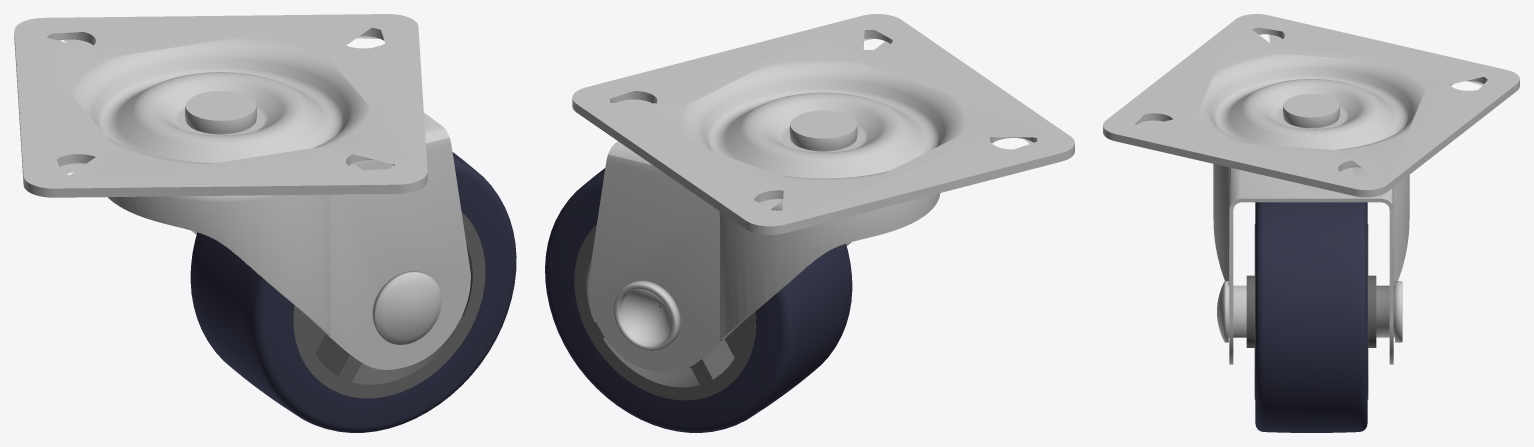
File: wheel-2.obj
3 renders of one model, left to right at view 1: azimuth 30°, elevation 25°; view 2: azimuth 150°, elevation 25°; view 3: azimuth 270°, elevation 25°, orthographic. The views are drawn at different scales.
Parts seen in each view (by area): view 1: Plane.003, Cylinder.008, Cylinder.009, Cylinder.010; view 2: Plane.003, Cylinder.008, Cylinder.009, Cylinder.010; view 3: Plane.003, Cylinder.009, Cylinder.008, Cylinder.010.
Part boxes in pixels (x1=…): Plane.003: x1=14, y1=14, x2=427, y2=197; Cylinder.008: x1=107, y1=113, x2=470, y2=369; Cylinder.009: x1=190, y1=152, x2=516, y2=432; Cylinder.010: x1=372, y1=271, x2=441, y2=344; Plane.003: x1=572, y1=14, x2=1074, y2=234; Cylinder.008: x1=588, y1=141, x2=940, y2=373; Cylinder.009: x1=545, y1=168, x2=852, y2=432; Cylinder.010: x1=613, y1=280, x2=680, y2=351; Plane.003: x1=1103, y1=14, x2=1519, y2=197; Cylinder.009: x1=1246, y1=202, x2=1376, y2=432; Cylinder.008: x1=1213, y1=164, x2=1409, y2=364; Cylinder.010: x1=1217, y1=281, x2=1402, y2=342.
Bounding box in the file's own units: 5.63 × 3.7 × 5.21.
